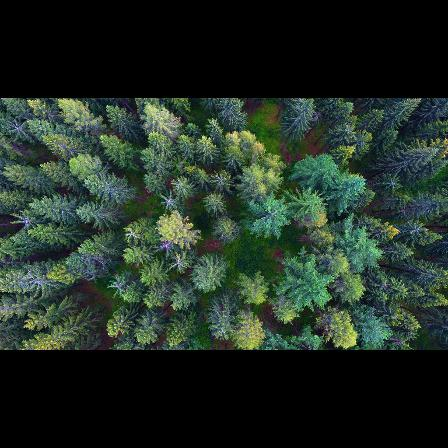Sick: (4, 112, 30, 143), (154, 189, 184, 213), (374, 172, 404, 192), (13, 208, 36, 232), (156, 233, 177, 256)
